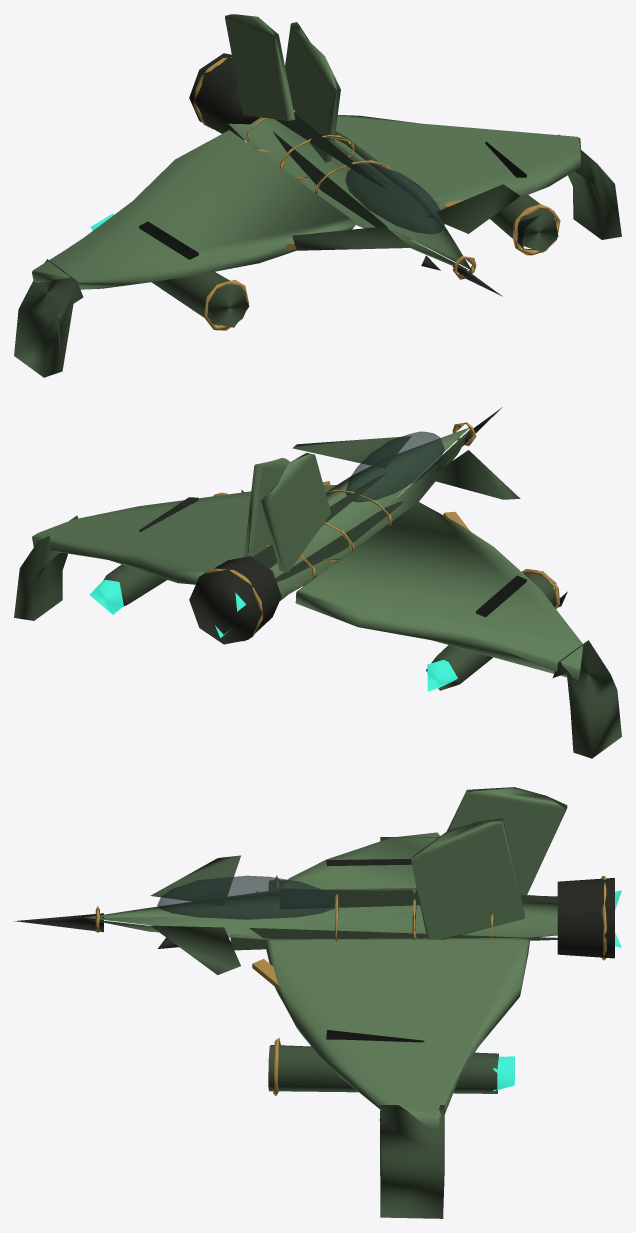
Rendered from raptor-interceptor-lod2.glb.
3 renders of one model, top to bottom at view 1: azimuth 30°, elevation 25°; view 2: azimuth 150°, elevation 25°; view 3: azimuth 270°, elevation 25°, orthographic. The views are drawn at different scales.
Visible parts, largest first — view 1: object 1, tailfin_port, tailfin_starboard; view 2: object 1, tailfin_port, tailfin_starboard; view 3: object 1, tailfin_starboard, tailfin_port.
Part boxes in pixels (x1,y1,x2,y2): object 1: (14,53,621,377); tailfin_port: (225,14,294,120); tailfin_starboard: (285,22,340,162); object 1: (14,407,621,758); tailfin_port: (261,452,331,572); tailfin_starboard: (244,457,289,557); object 1: (14,832,621,1218); tailfin_starboard: (411,818,524,939); tailfin_port: (446,787,567,895).
Size of the model in its own units: 17.55 by 7.28 by 14.88.
